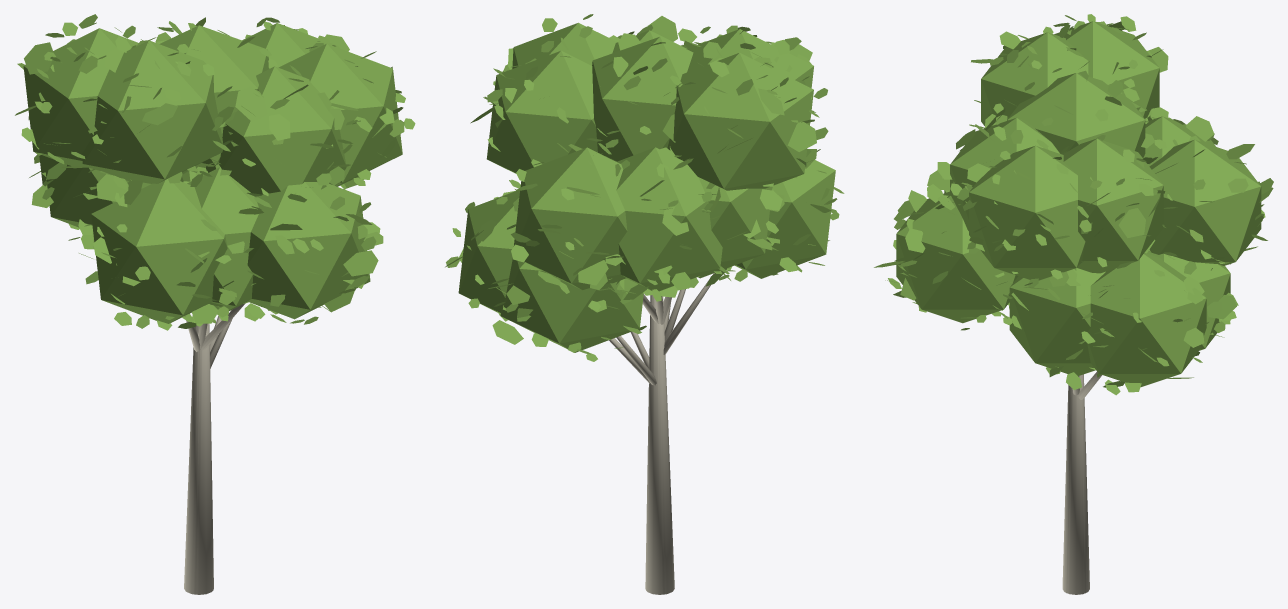
Rendered from SummerBirch.glb.
3 renders of one model, left to right at view 1: azimuth 30°, elevation 25°; view 2: azimuth 150°, elevation 25°; view 3: azimuth 270°, elevation 25°, orthographic. The views are drawn at different scales.
Visible parts, largest first — view 1: LOD2_EnvLeafBroad, LOD0_EnvLeafBroad, LOD1_EnvLeafBroad, LOD0_EnvBirchBark, LOD1_EnvBirchBark; view 2: LOD2_EnvLeafBroad, LOD0_EnvLeafBroad, LOD0_EnvBirchBark, LOD1_EnvLeafBroad, LOD1_EnvBirchBark; view 3: LOD2_EnvLeafBroad, LOD0_EnvLeafBroad, LOD1_EnvLeafBroad, LOD0_EnvBirchBark, LOD1_EnvBirchBark.
Part boxes in pixels (box(x1,y1,x2,y2)): LOD2_EnvLeafBroad: box(23, 23, 402, 323); LOD0_EnvLeafBroad: box(21, 14, 415, 330); LOD1_EnvLeafBroad: box(15, 17, 395, 323); LOD0_EnvBirchBark: box(184, 303, 245, 594); LOD1_EnvBirchBark: box(188, 303, 244, 594); LOD2_EnvLeafBroad: box(458, 22, 835, 352); LOD0_EnvLeafBroad: box(446, 14, 844, 361); LOD0_EnvBirchBark: box(609, 273, 714, 594); LOD1_EnvLeafBroad: box(445, 16, 831, 344); LOD1_EnvBirchBark: box(609, 285, 709, 594); LOD2_EnvLeafBroad: box(896, 21, 1261, 386); LOD0_EnvLeafBroad: box(882, 14, 1268, 395); LOD1_EnvLeafBroad: box(874, 21, 1273, 387); LOD0_EnvBirchBark: box(1062, 372, 1101, 594); LOD1_EnvBirchBark: box(1066, 372, 1099, 593).
Bounding box in the file's own units: 6.02 × 9.34 × 6.41.
